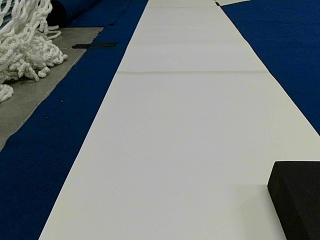block: (267, 160, 318, 238)
